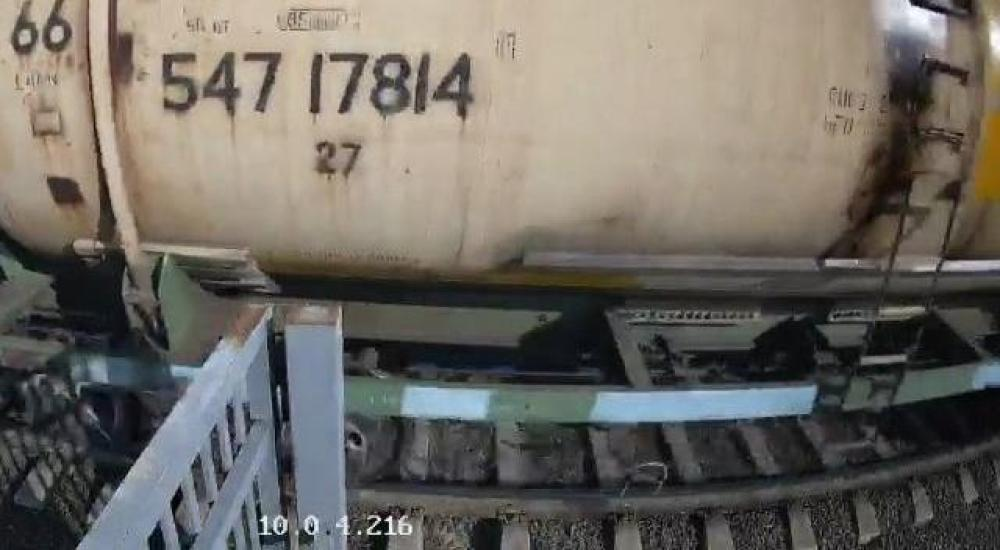Wagon-number: (156, 46, 479, 124)
